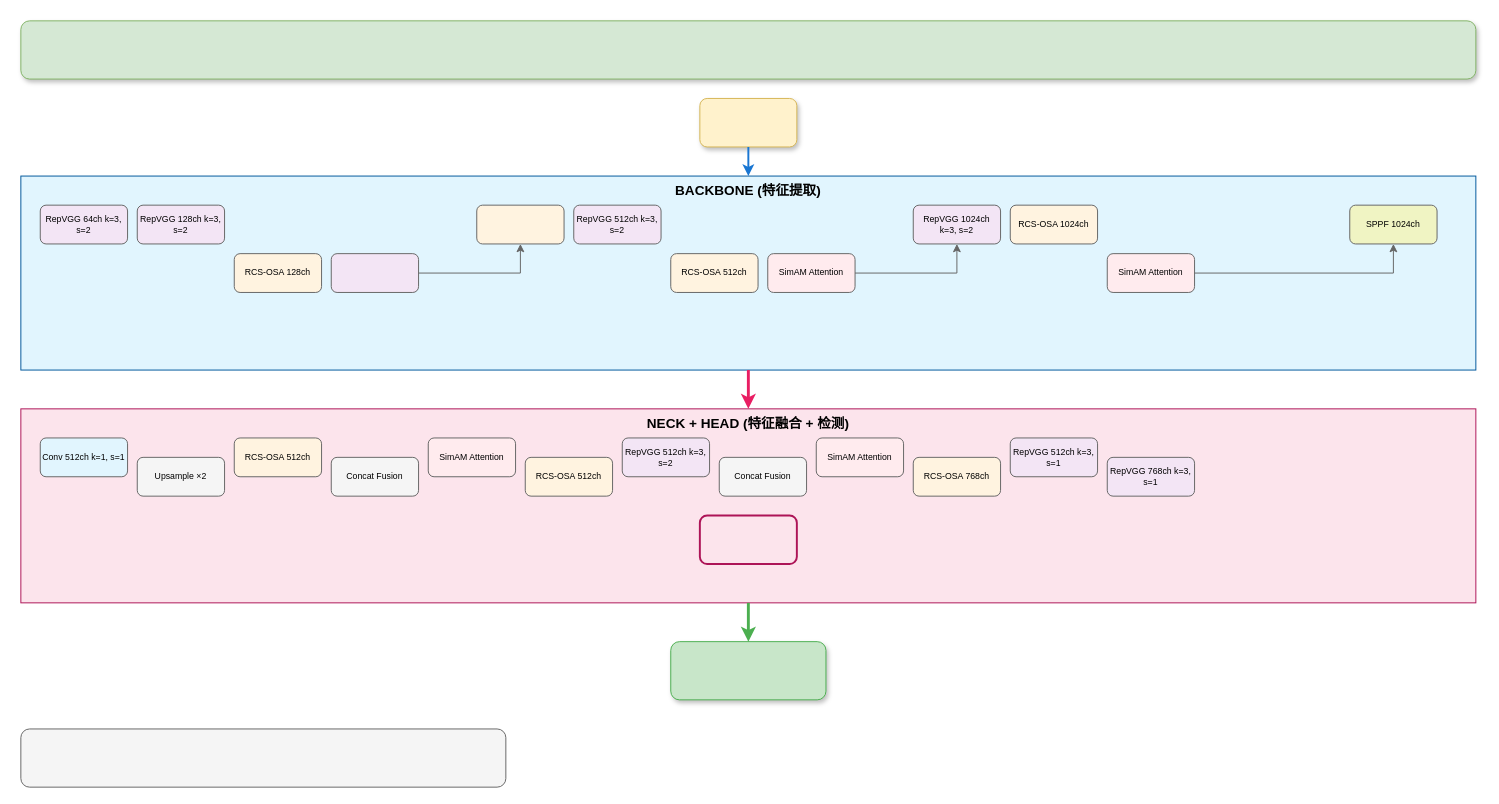
The diagram is 1499 pixels wide and 804 high, and some of its shapes have lost their labels. Here are the shapes that lost their labels. From the top down, the centre of each, then its label:
At point (749, 51): "YOLOv4-RepVGG-RCSOSA-SimAM RepVGG + RCS-OSA + SimAM全能版 + IDetect检测头".
At point (749, 124): "Input Image 640×640×3".
At point (520, 224): "RCS-OSA 256ch".
At point (374, 272): "RepVGG 256ch k=3, s=2".
At point (747, 539): "IDetect Classes: nc".
At point (749, 672): "Detection Results Bounding Boxes + Confidence Scores".
At point (263, 757): "模块图例 ■ 标准卷积 ■ RepVGG ■ CSP ■ RCS-OSA ■ 注意力".
